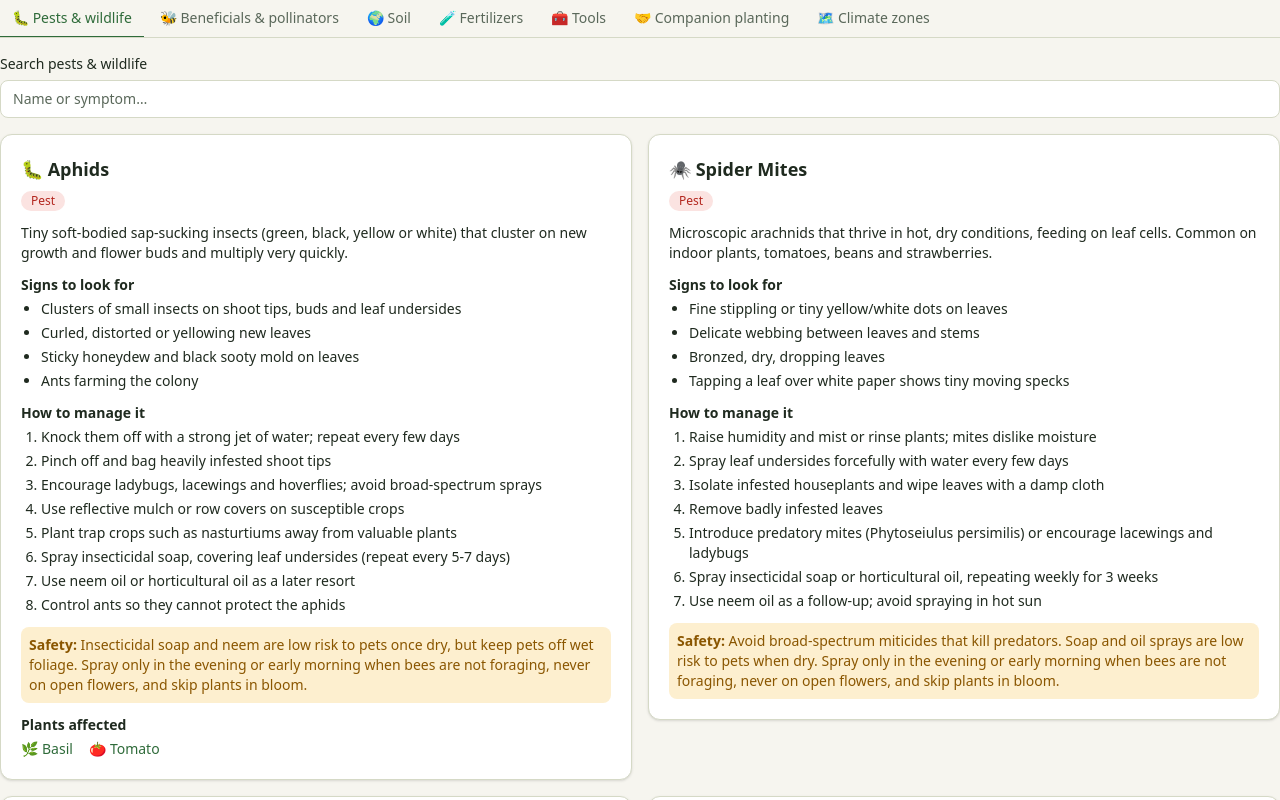
Test: Guides › looks up companions and antagonists for a plant
Click the tab "🤝 Companion planting": (712, 19) 622,0 -> 801,38
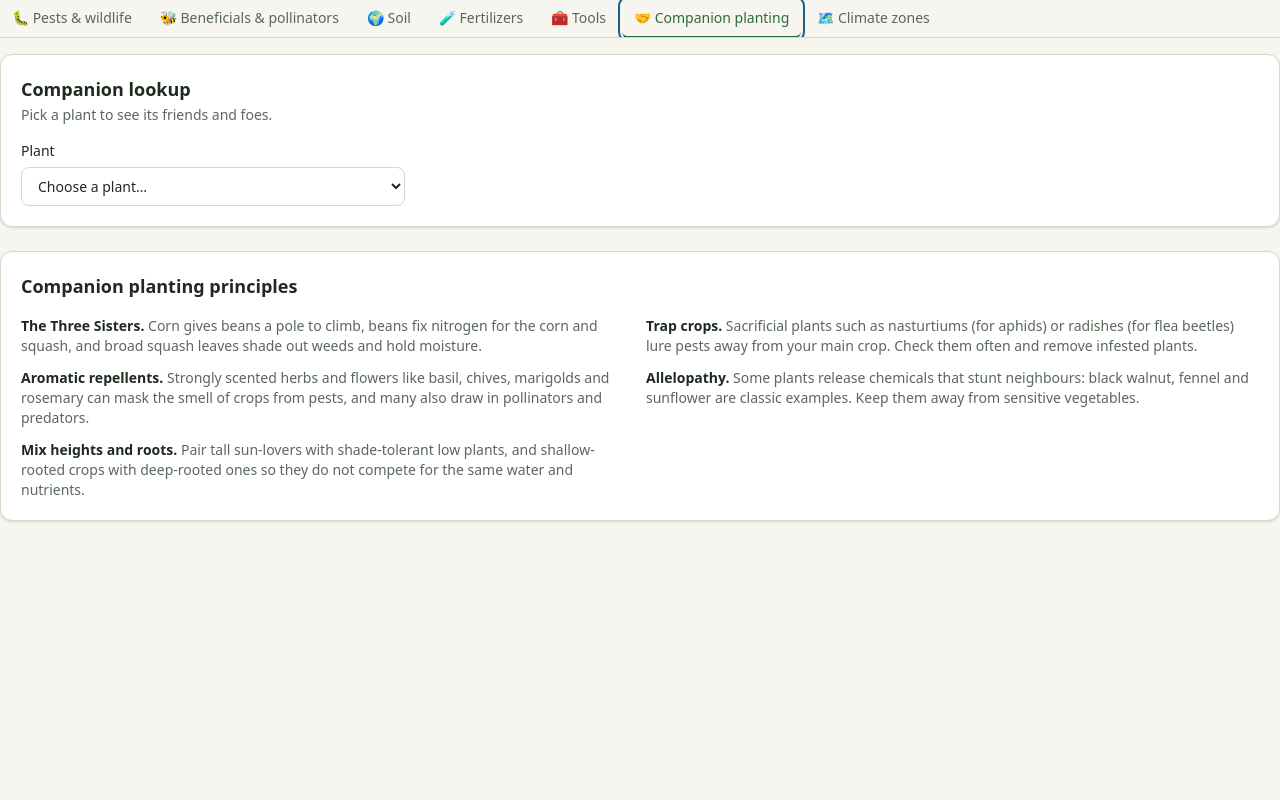
Select "🍅 Tomato" in the dropdown labelled "Plant": (213, 186) 21,167 -> 405,206
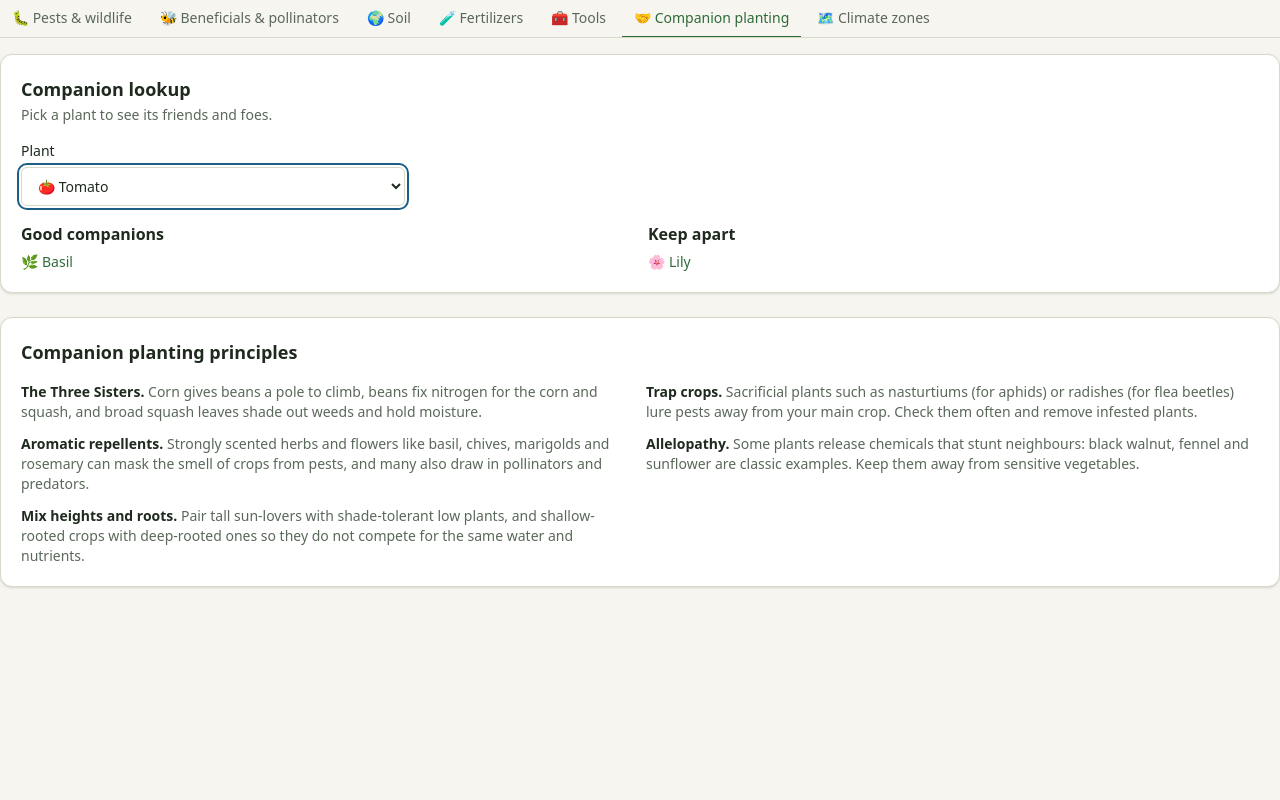
expect the link "🌿 Basil" is shown: met, box 21,252 -> 73,272
expect the link "🌸 Lily" is shown: met, box 648,252 -> 691,272
